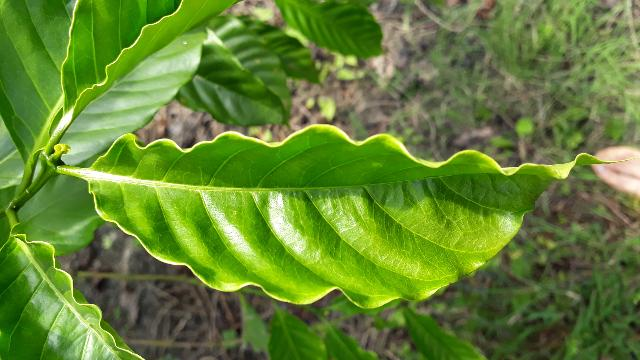healthy: (88, 126, 634, 310)
